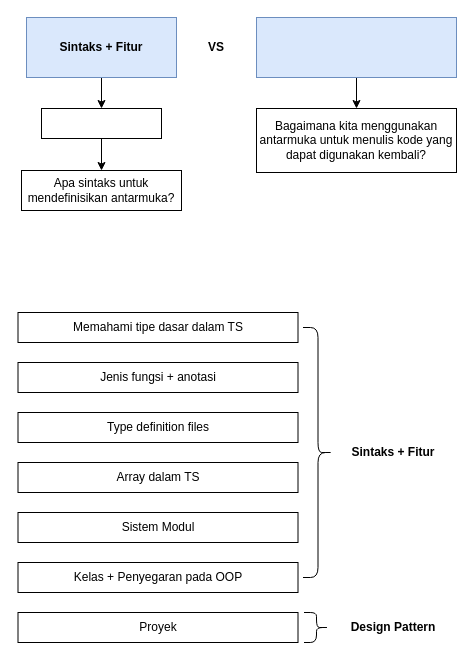
The diagram is 474 pixels wide and 660 high, and some of its shapes have lost their labels. The box of each missing label's shape, as (x1, y1, x2, y2) in pixels:
Apa itu interface: (40, 108, 162, 138)
Design Patterns with TS: (256, 16, 456, 78)
